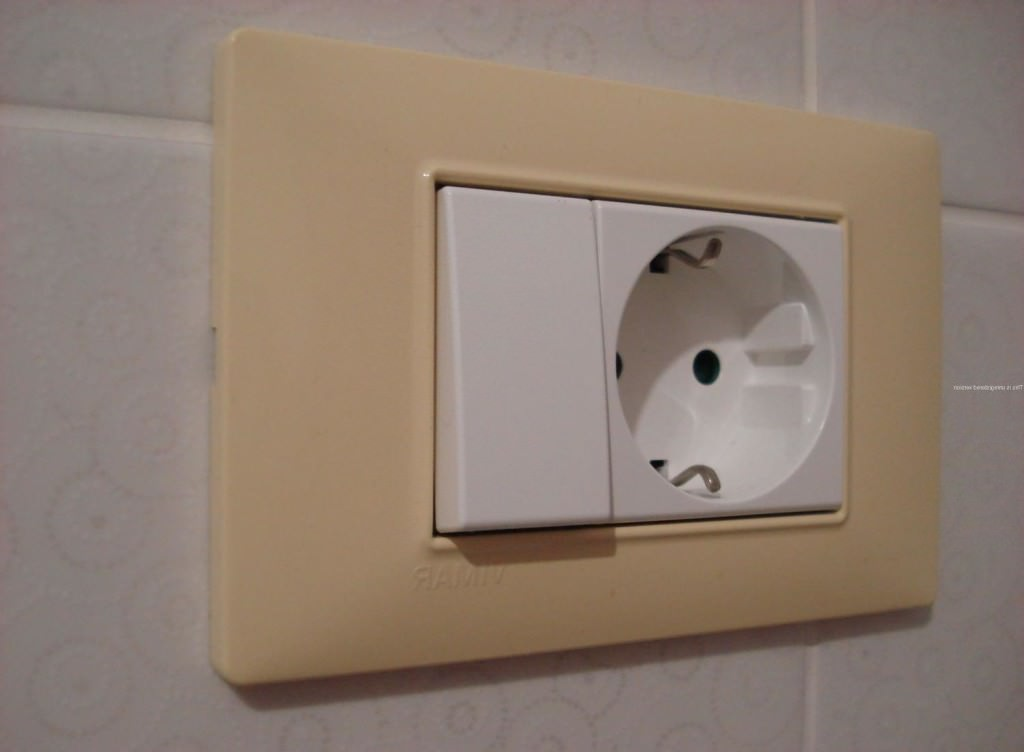raccoon: (611, 209, 838, 507)
